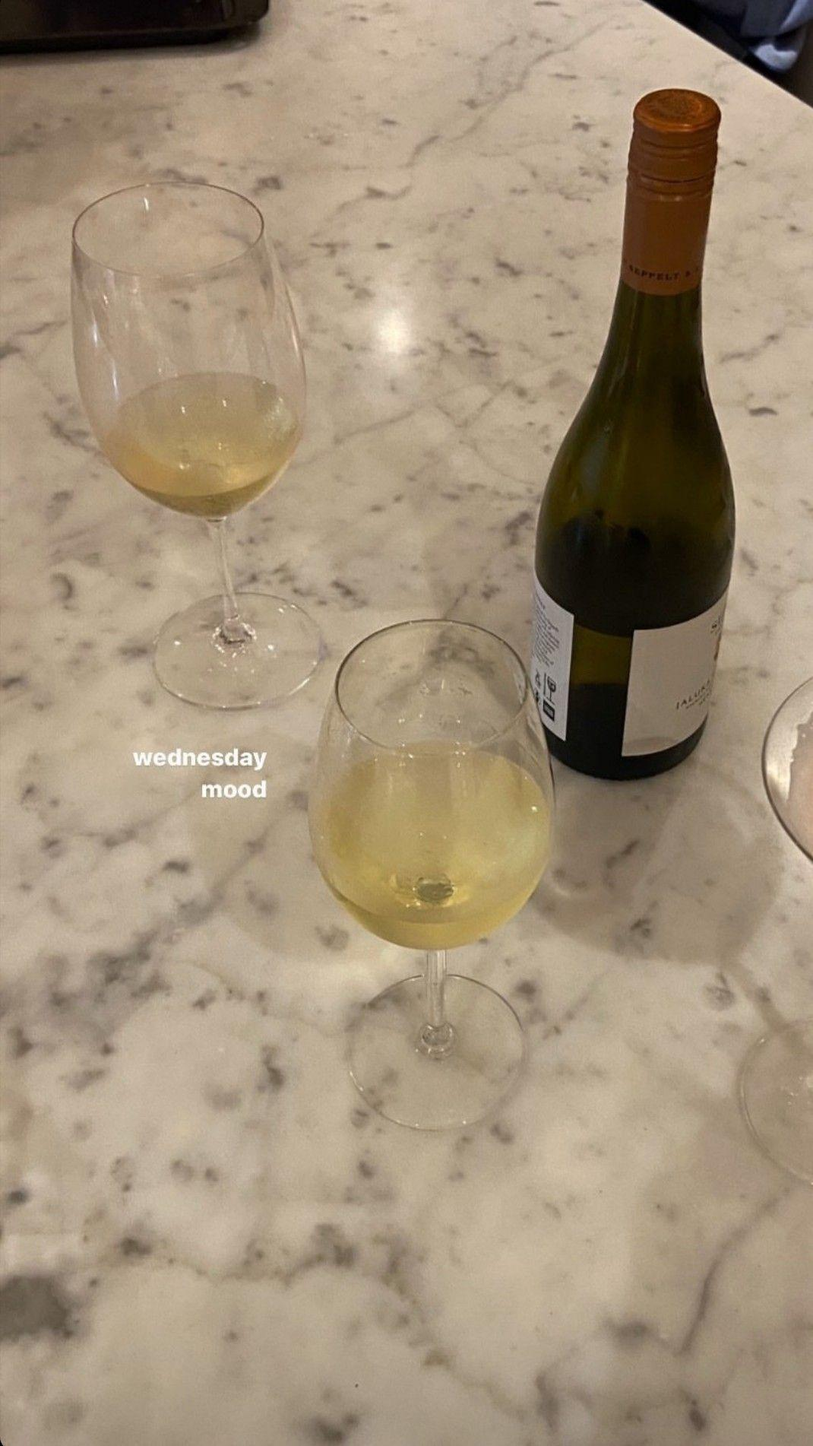bottle-glass: (527, 91, 741, 786)
glass-wine: (68, 176, 325, 714), (305, 614, 561, 1134)
